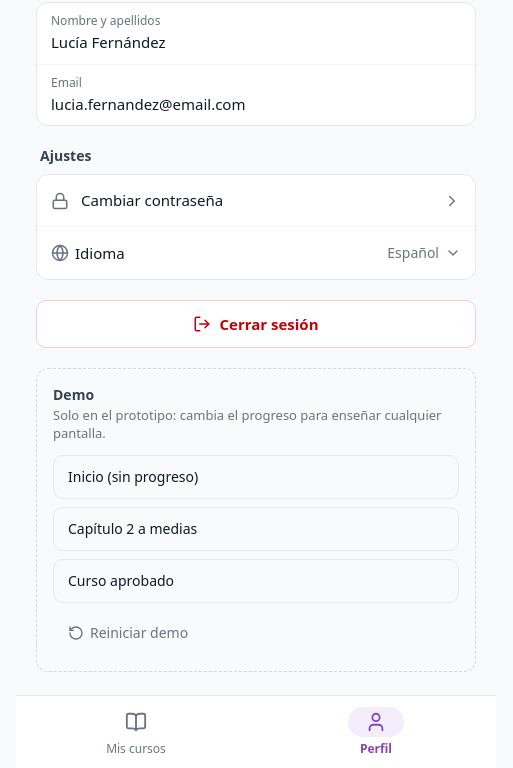
Perfil › el panel de demo aplica presets
The image size is (513, 768).
(page scrolled)
What coordinates should you click on to do the following:
click the button "Curso aprobado"
I would click on:
 (121, 580)
Its box is [53,559,459,603].
(page scrolled)
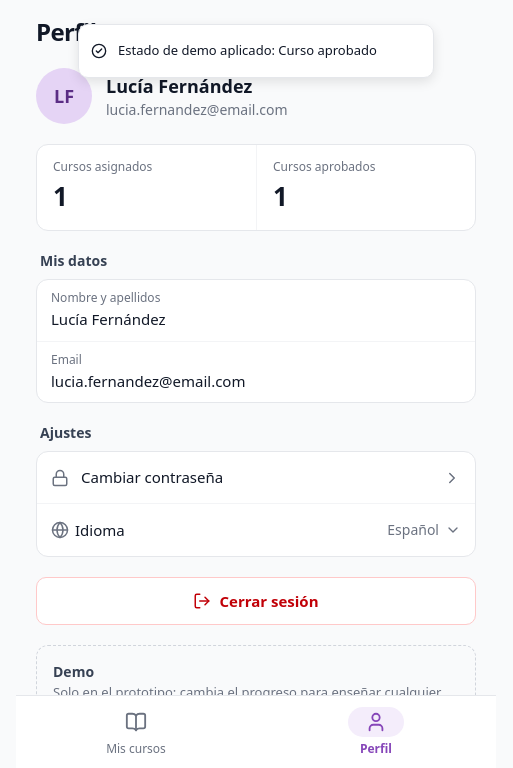
Result: the text "1" below "Cursos aprobados" is shown at [273,178,288,214]
